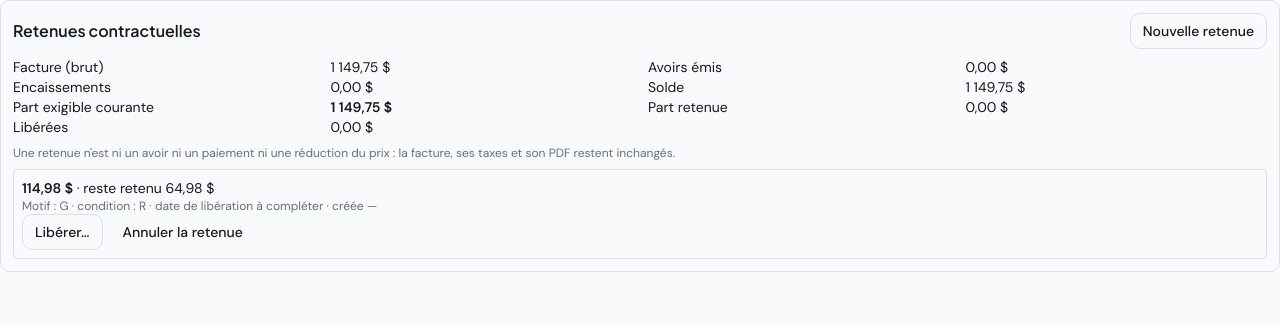
Test case: FIN-09C2 — écran simulé › libération au-delà du restant refusée à l'écran (validation finale serveur)
Click the button "Libérer…". click: (62, 232)
box: [22,214,102,250]
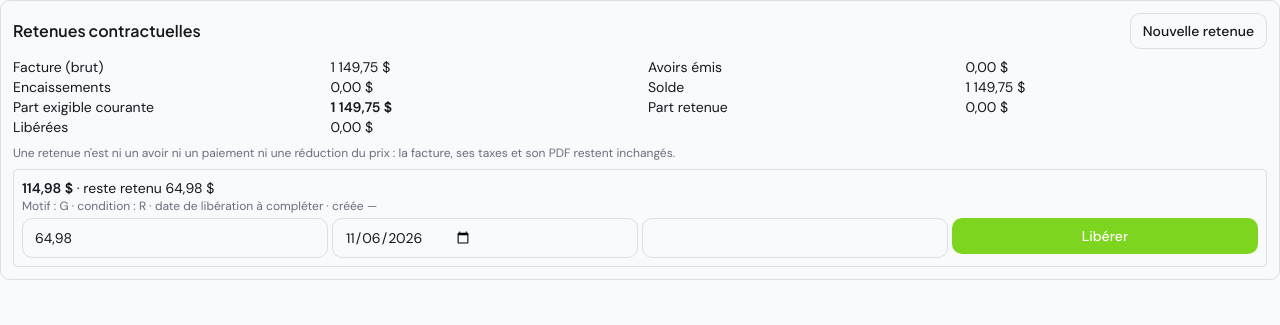
Replace the text in the field named "Montant à libérer" with "64,99". click: (175, 238)
box: [22,218,328,258]
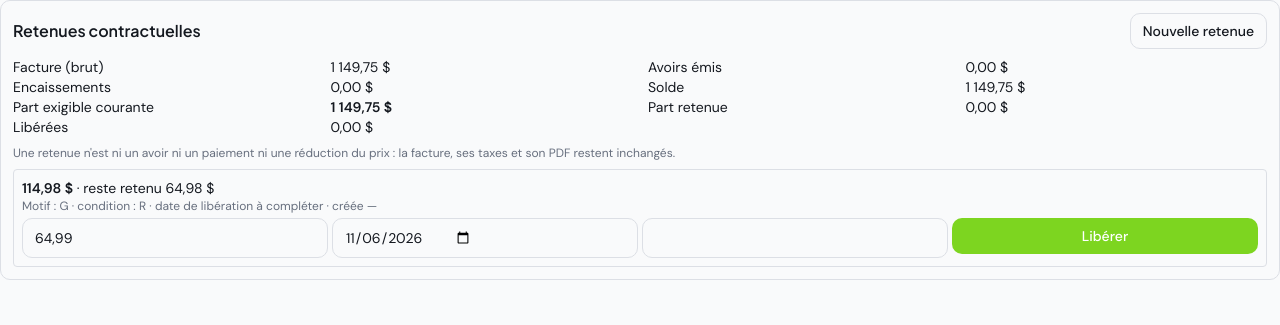
Type "x" into the field named "Motif de libération". click: (795, 238)
box: [642,218,948,258]
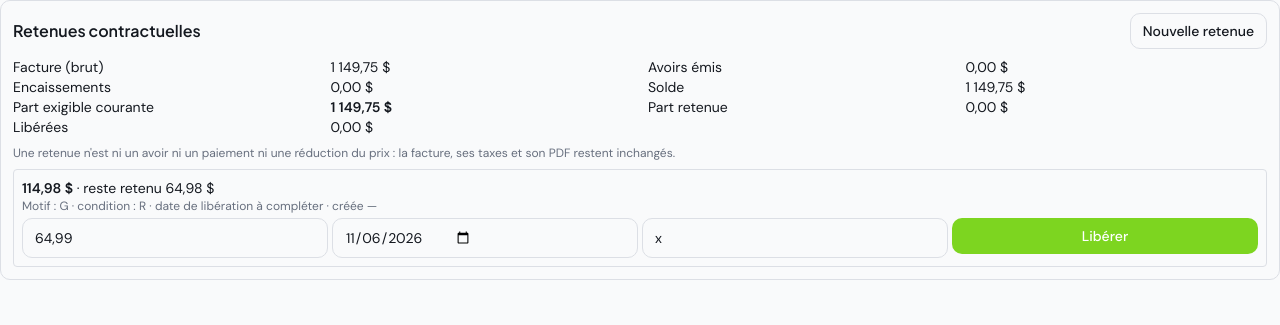
Click the button "Libérer". click: (1105, 236)
box: [952,218,1258,254]
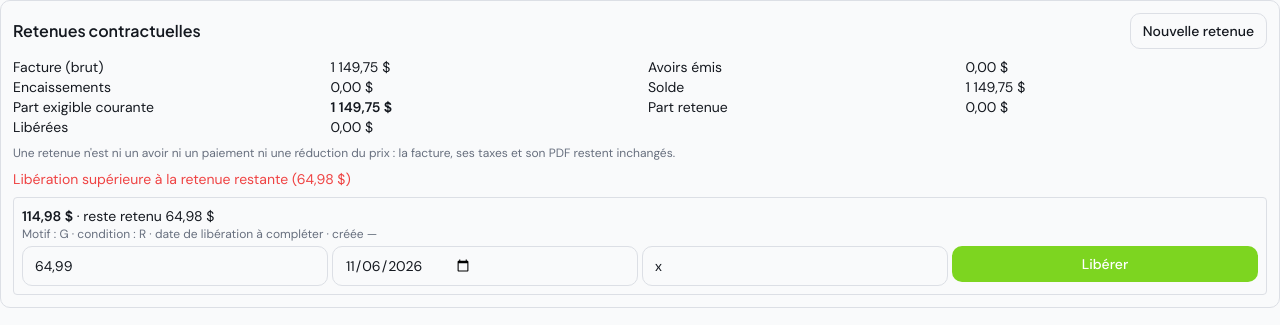
expect the message shows "supérieure à la retenue restante": met, box [13,170,351,188]
